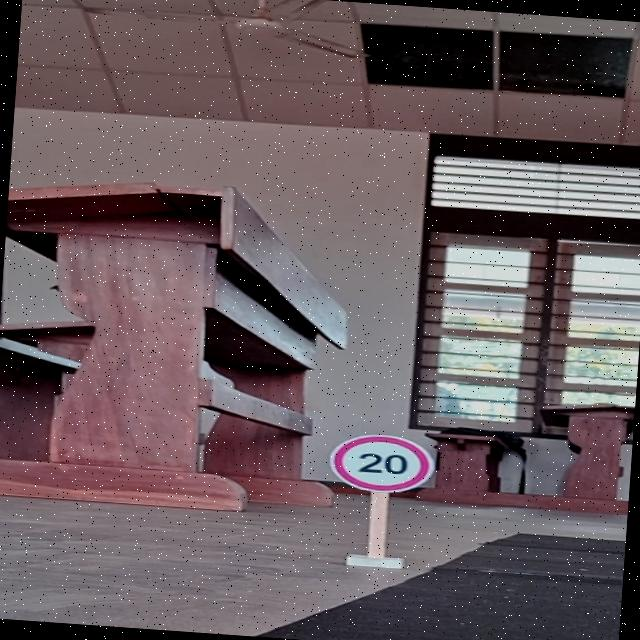Speed20: (325, 426, 443, 501)
